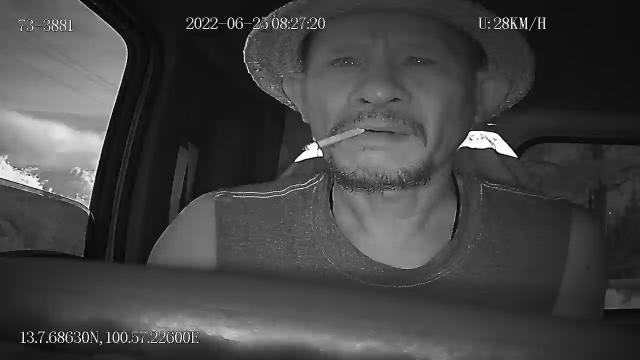SafeDriving: (322, 44, 368, 74), (393, 46, 442, 74)
Smoking: (304, 128, 366, 152)
